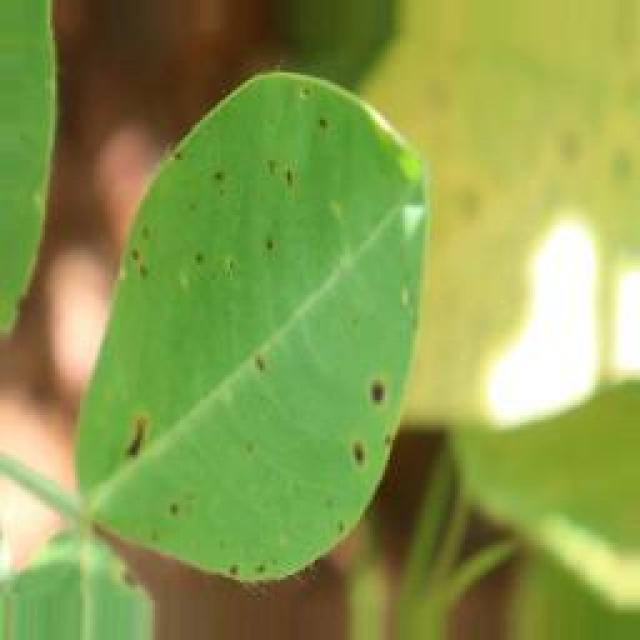Sigatoka: (343, 379, 403, 481), (236, 328, 306, 410), (113, 394, 158, 491), (256, 155, 312, 222), (125, 240, 182, 301), (298, 99, 350, 159), (213, 546, 274, 592), (318, 478, 352, 558), (220, 237, 256, 302), (163, 492, 197, 550), (204, 158, 236, 210), (257, 218, 286, 258), (168, 150, 200, 184)
